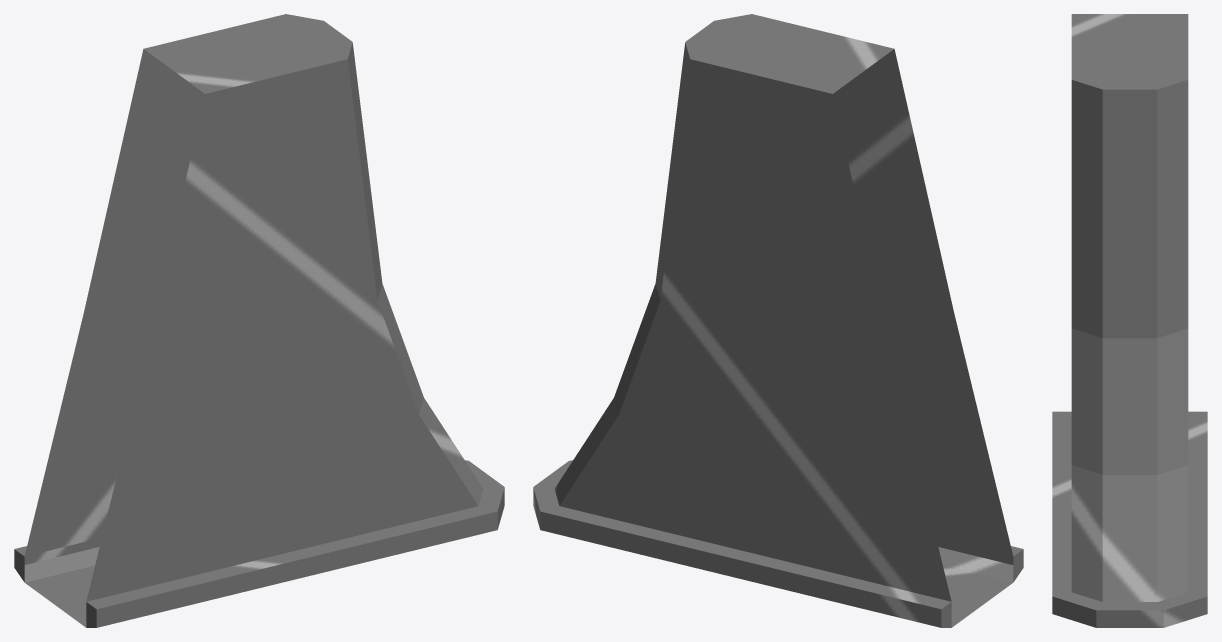
The model's file is FEP-S6P-Trigger.obj.
The picture shows the model from 3 angles, left to right: view 1: azimuth 30°, elevation 25°; view 2: azimuth 150°, elevation 25°; view 3: azimuth 270°, elevation 25°; orthographic projection. The views are drawn at different scales.
Parts seen in each view (by area): view 1: FEP-S6P-Trigger; view 2: FEP-S6P-Trigger; view 3: FEP-S6P-Trigger.
Part boxes in pixels (x1=…): FEP-S6P-Trigger: x1=14, y1=14, x2=504, y2=627; FEP-S6P-Trigger: x1=533, y1=14, x2=1023, y2=627; FEP-S6P-Trigger: x1=1052, y1=14, x2=1207, y2=627.
Bounding box in the file's own units: 0.605 × 0.6767 × 0.2.
